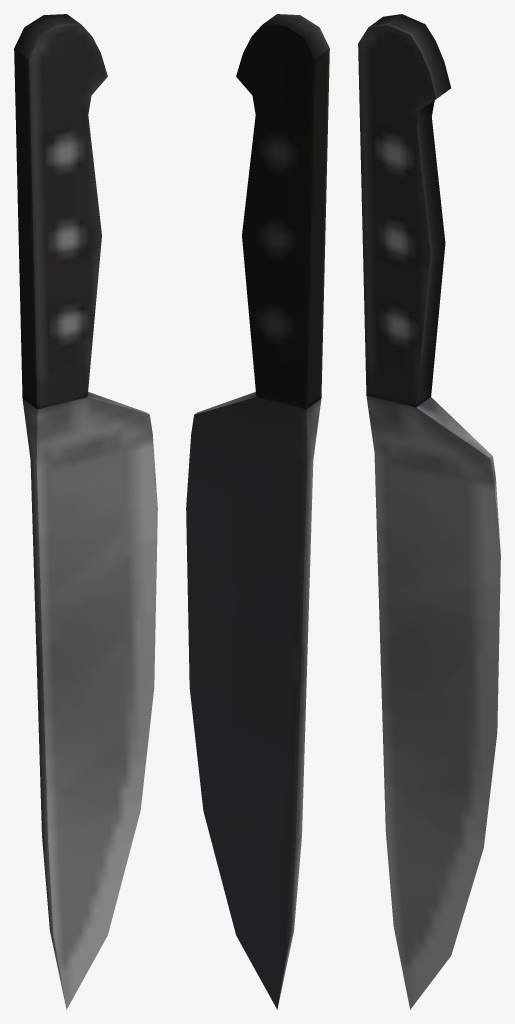
File: cuchillo3.fbx
The picture shows the model from 3 angles, left to right: view 1: azimuth 30°, elevation 25°; view 2: azimuth 150°, elevation 25°; view 3: azimuth 330°, elevation 25°; orthographic projection.
Visible parts, largest first — view 1: s4studio_mesh_1; view 2: s4studio_mesh_1; view 3: s4studio_mesh_1.
Part boxes in pixels (box(x1,y1,x2,y2)): s4studio_mesh_1: box(14, 14, 157, 1009); s4studio_mesh_1: box(186, 14, 329, 1009); s4studio_mesh_1: box(358, 14, 500, 1009).
Bounding box in the file's own units: 6 × 41.75 × 1.14.
Materials: 1 (1 with a texture image).
